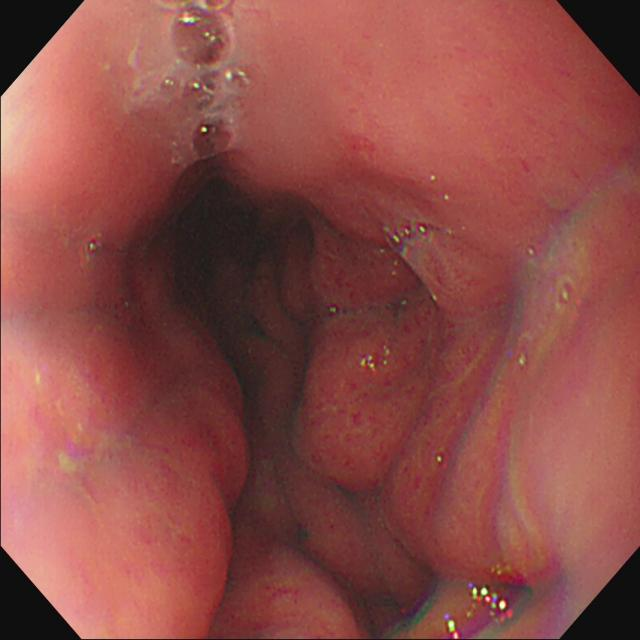A: (384, 393, 541, 576), (290, 322, 450, 495), (217, 536, 363, 640), (287, 227, 421, 315), (332, 126, 388, 170)
E: (184, 171, 263, 256)
T: (160, 2, 250, 160)
U: (468, 583, 512, 624), (447, 618, 461, 640)
